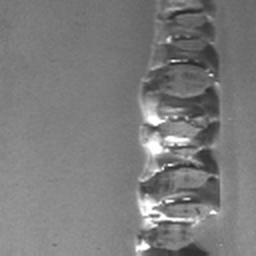Slag inclusion: (136, 0, 221, 256)
